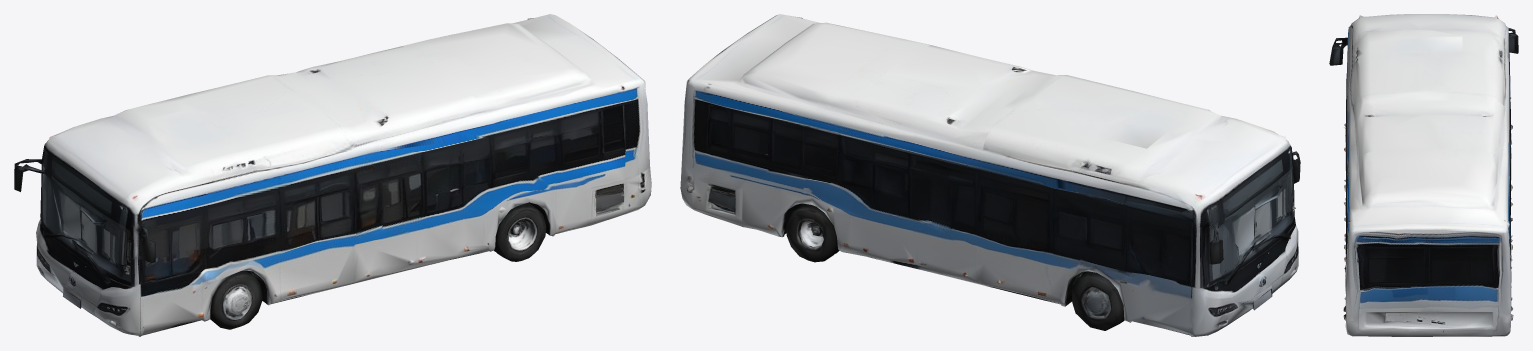
Rendered from bus.glb.
The picture shows the model from 3 angles, left to right: view 1: azimuth 30°, elevation 25°; view 2: azimuth 150°, elevation 25°; view 3: azimuth 270°, elevation 25°; orthographic projection. The views are drawn at different scales.
Visible parts, largest first — view 1: tripo_node_24b4ee32-254d-4fbc-b47b-f23972e13d2e; view 2: tripo_node_24b4ee32-254d-4fbc-b47b-f23972e13d2e; view 3: tripo_node_24b4ee32-254d-4fbc-b47b-f23972e13d2e.
Part boxes in pixels (bbox=[...]): tripo_node_24b4ee32-254d-4fbc-b47b-f23972e13d2e: bbox=[14, 14, 651, 336]; tripo_node_24b4ee32-254d-4fbc-b47b-f23972e13d2e: bbox=[680, 14, 1300, 336]; tripo_node_24b4ee32-254d-4fbc-b47b-f23972e13d2e: bbox=[1329, 14, 1518, 336].
Size of the model in its own units: 1 by 0.2981 by 0.3554.
1 material, 1 textured.
